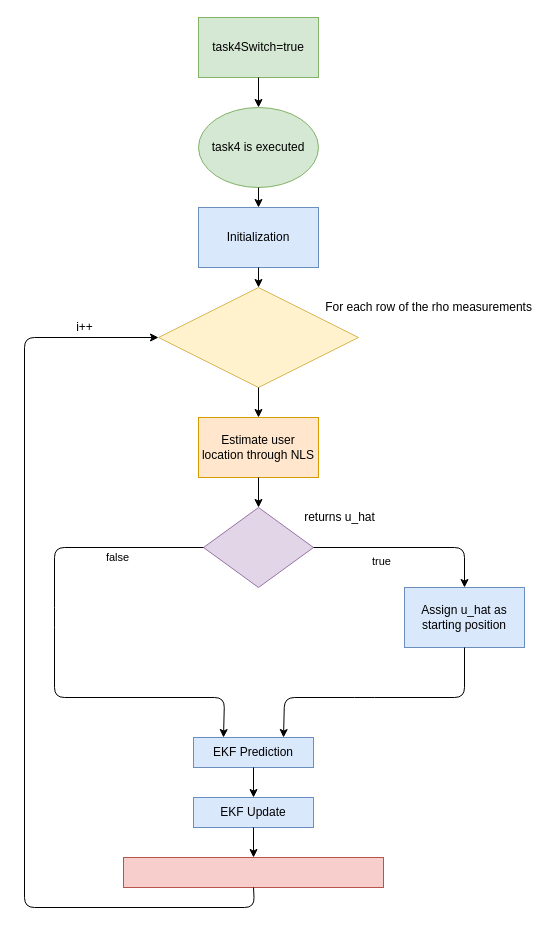
Some shapes in this 556 by 933 pixel diagram are drawn without their labels. Here are the shapes that lost their labels. From the top down, the centre of each, then its label:
At [258,337]: "for i = 1:(size(rhoTraining4,1))".
At [258,547]: "i==1?".
At [253,872]: "Compute performance metrics for i-th step".
